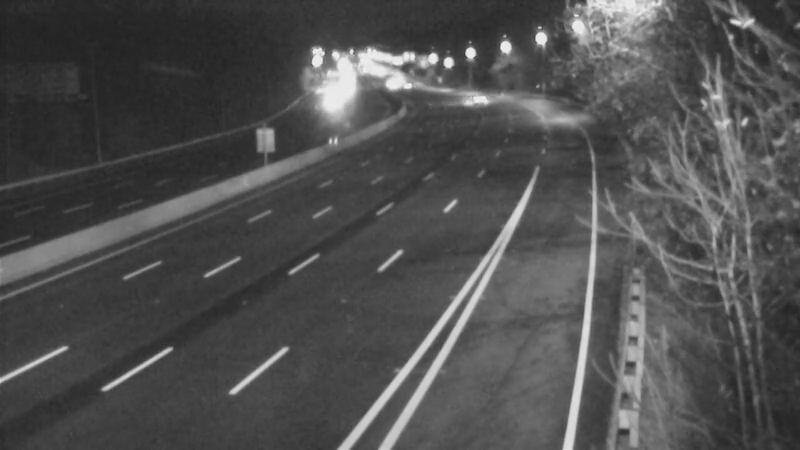vehicle: (383, 62, 433, 112), (364, 60, 414, 110), (444, 70, 494, 120), (307, 74, 357, 124)
